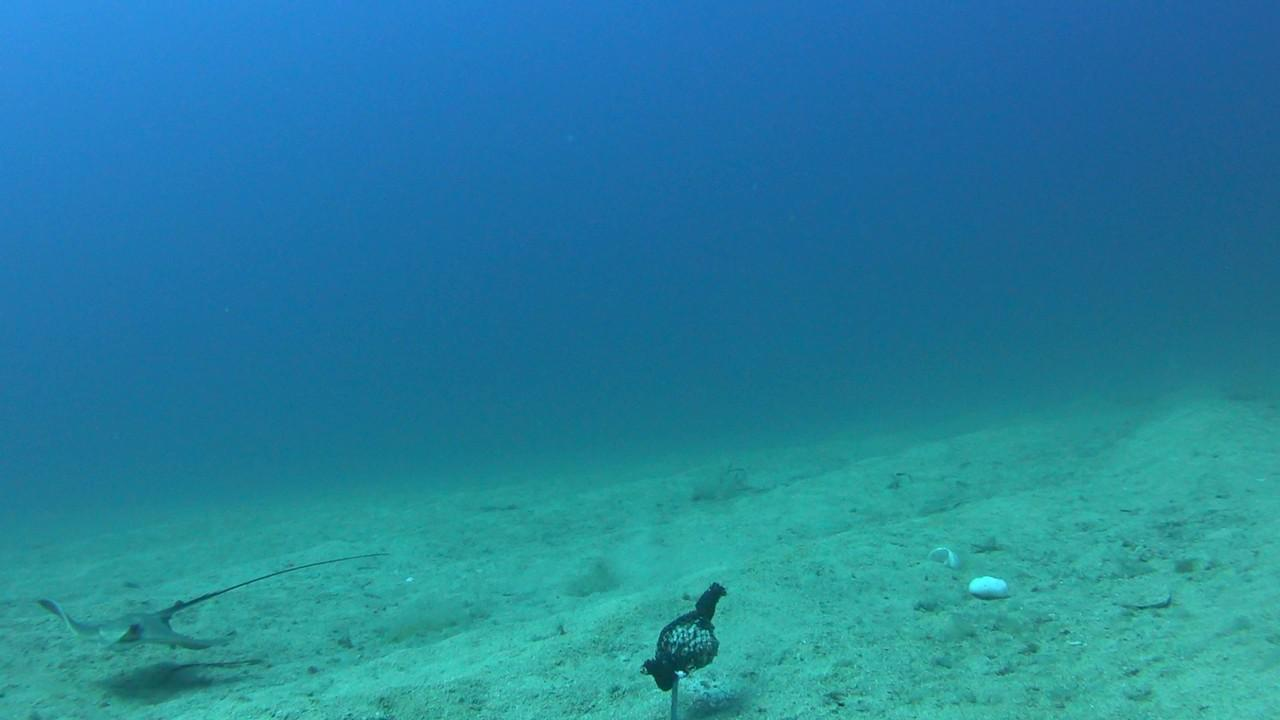myliobatis: (30, 528, 400, 653)
